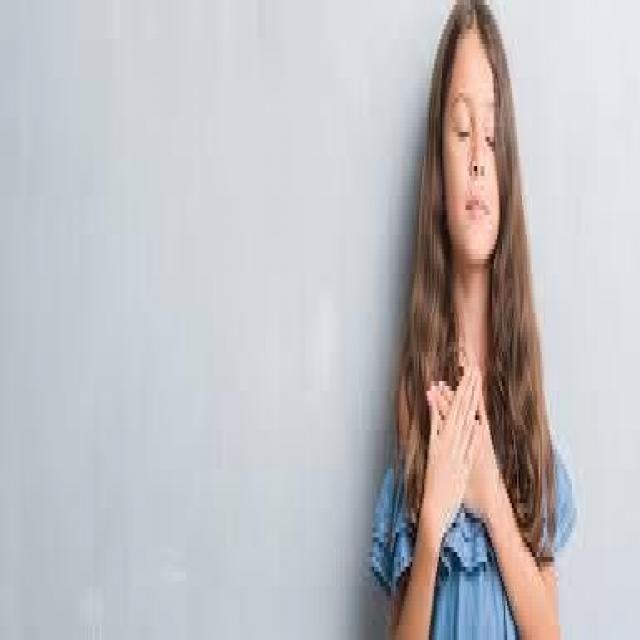person: (366, 0, 577, 635)
